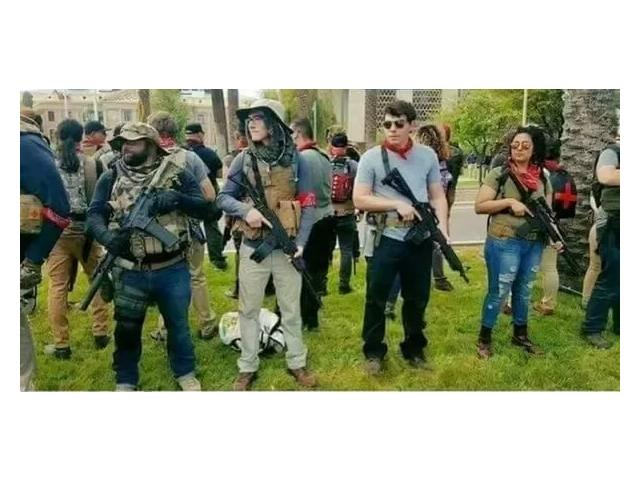rifle: (77, 155, 189, 310), (224, 166, 322, 302), (384, 171, 472, 287), (495, 166, 580, 273)
